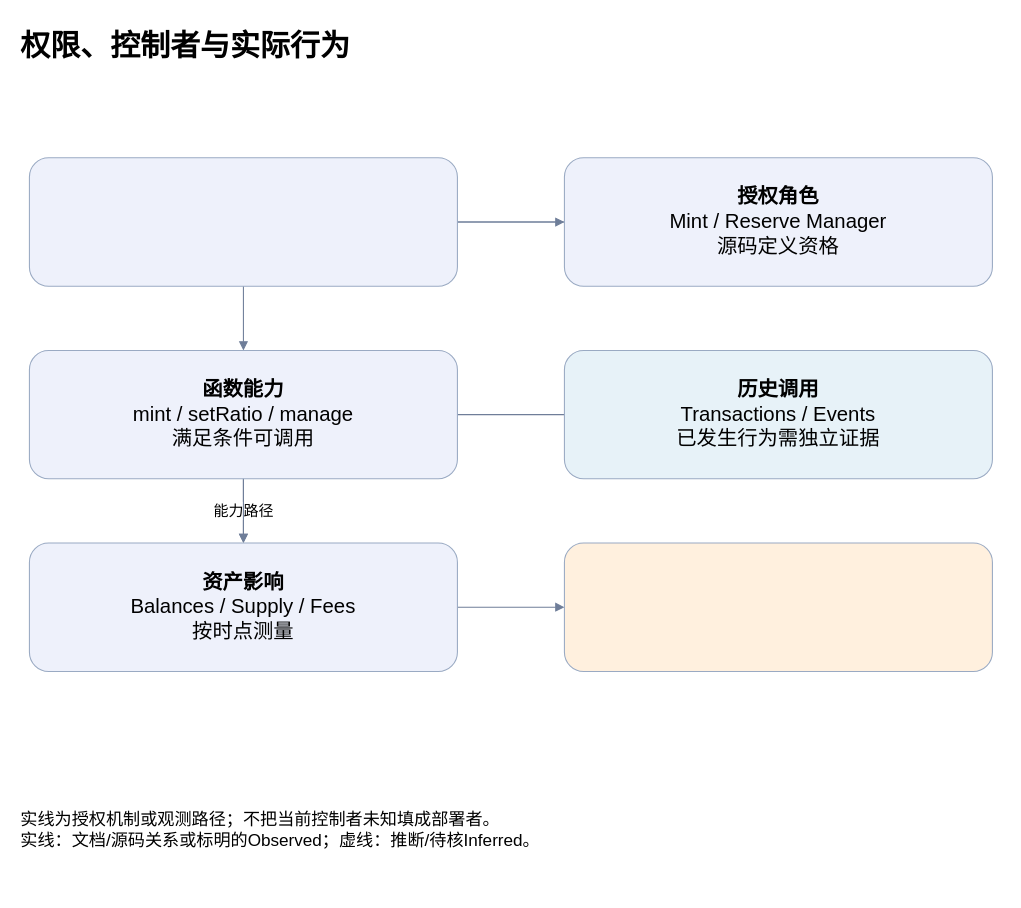
Image size: 1021x908. Some labels were removed from this diagram. Here are the shapes that lost their labels. From the top down, the centre of each, then its label:
At point 242,221: "管理权入口 Admin / Manager 当前持有人待状态核对".
At point 777,606: "风险判断 Capability ≠ Abuse 技术与意图分开".
